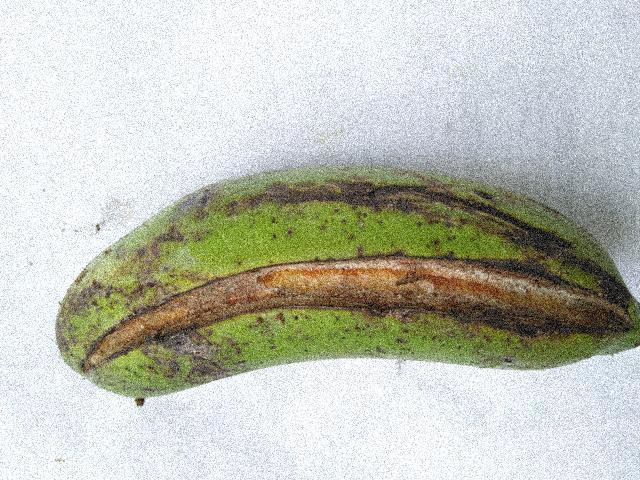rotten: (58, 217, 639, 383)
